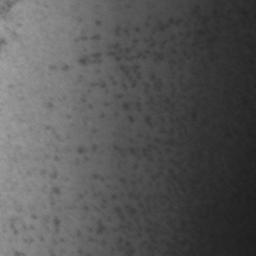Pitted surface: (0, 0, 22, 14), (78, 53, 101, 65), (6, 28, 18, 40), (10, 218, 18, 235), (0, 38, 8, 52), (54, 217, 60, 232), (97, 224, 104, 233), (14, 251, 26, 256), (53, 187, 60, 194)
